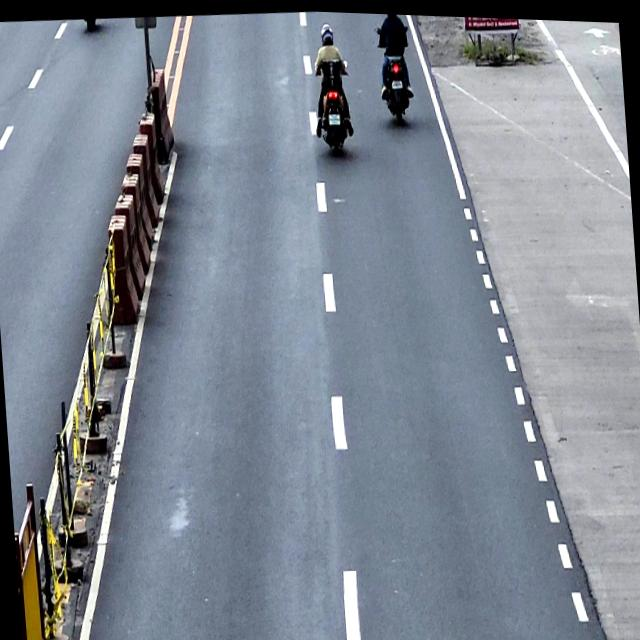License-Plate: (328, 109, 340, 123), (390, 76, 402, 86)
Motorcycle: (313, 56, 356, 155), (374, 19, 414, 117)
